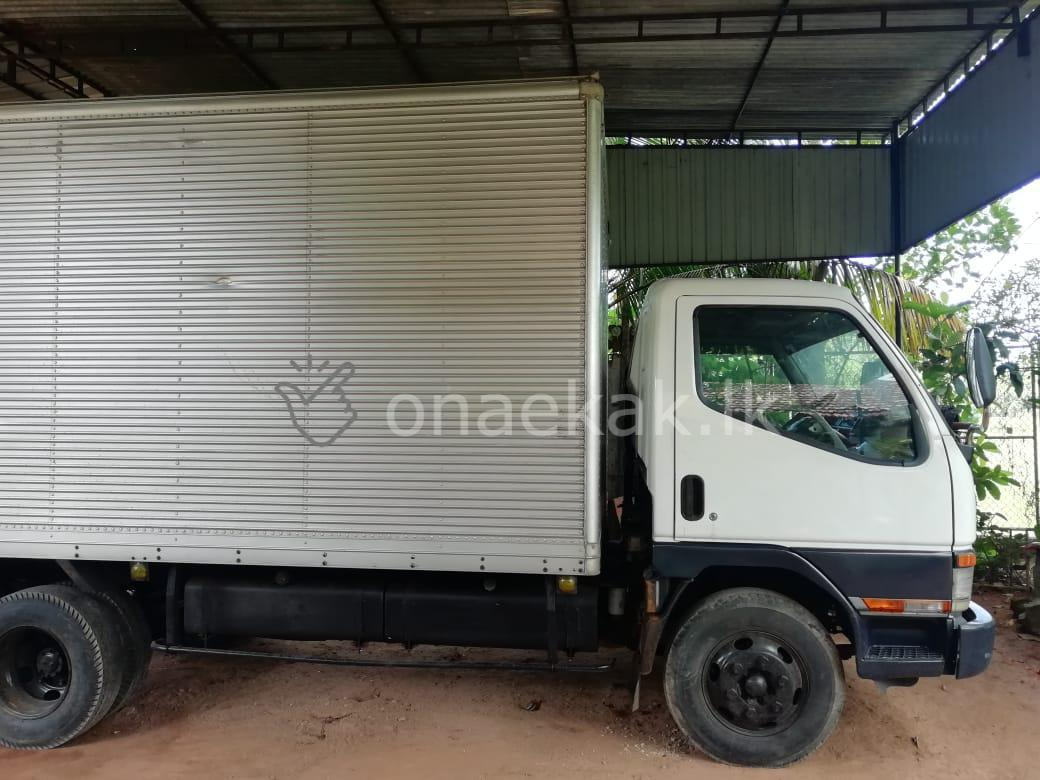truck: (1, 70, 997, 767)
